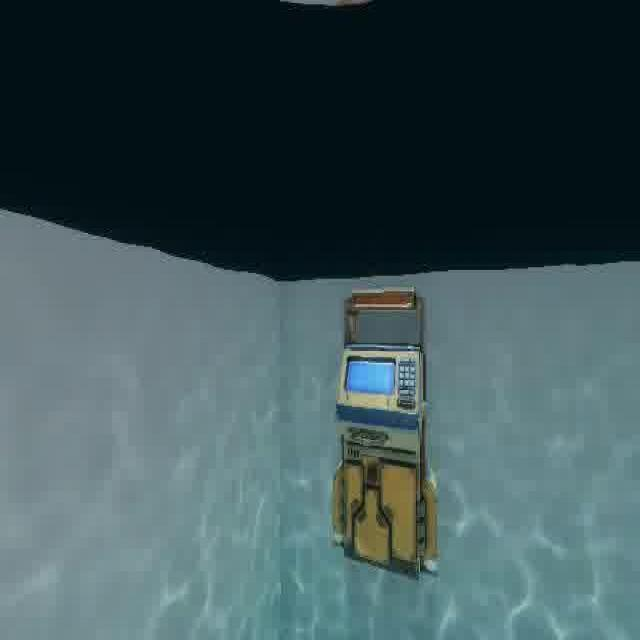Control Panel: (318, 283, 448, 590)
